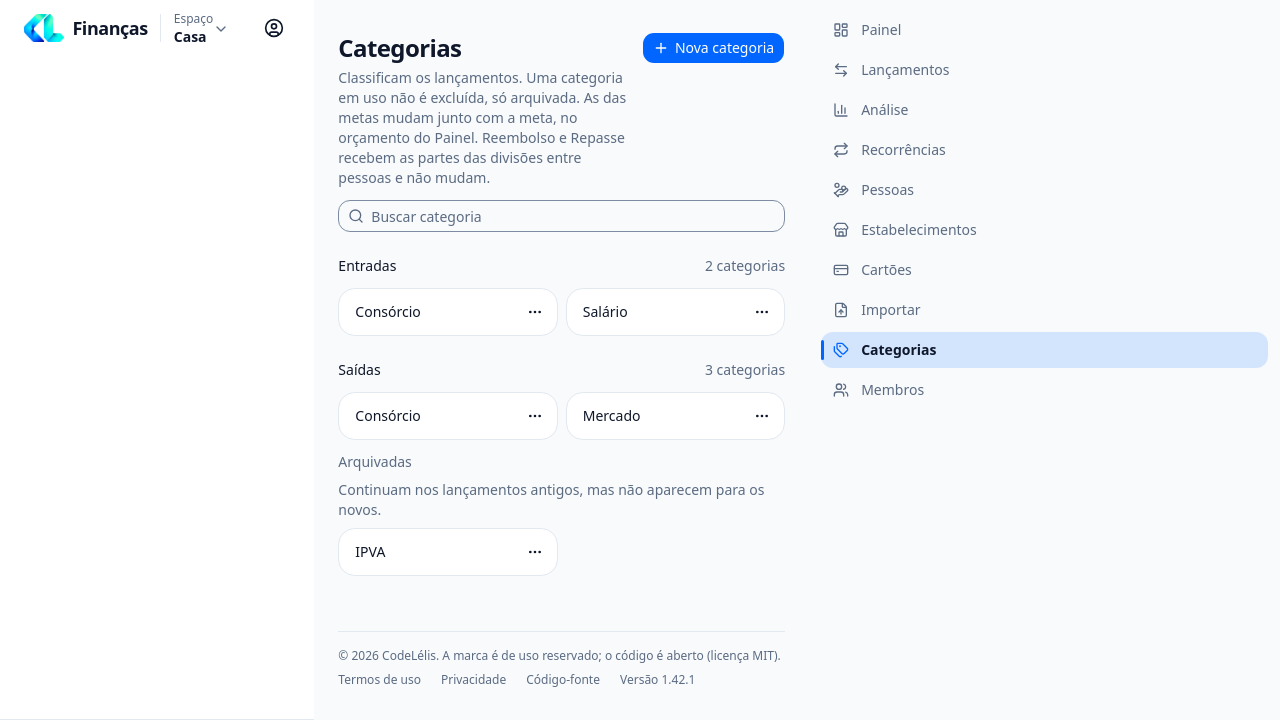
CategoriesPage › archives an active category and reactivates an archived one
Click the button named "Ações de Mercado".
click(762, 416)  # box [748, 402, 776, 430]
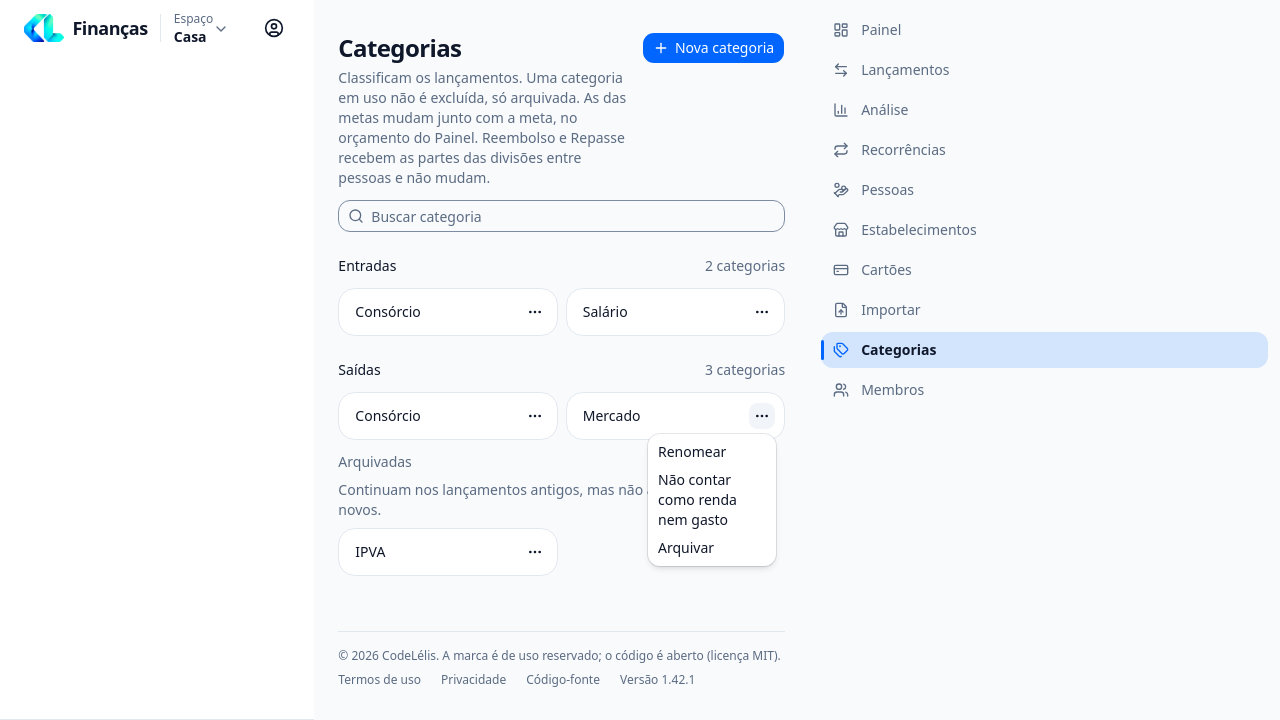
Click the menu item "Arquivar".
click(686, 548)  # box [658, 538, 714, 557]
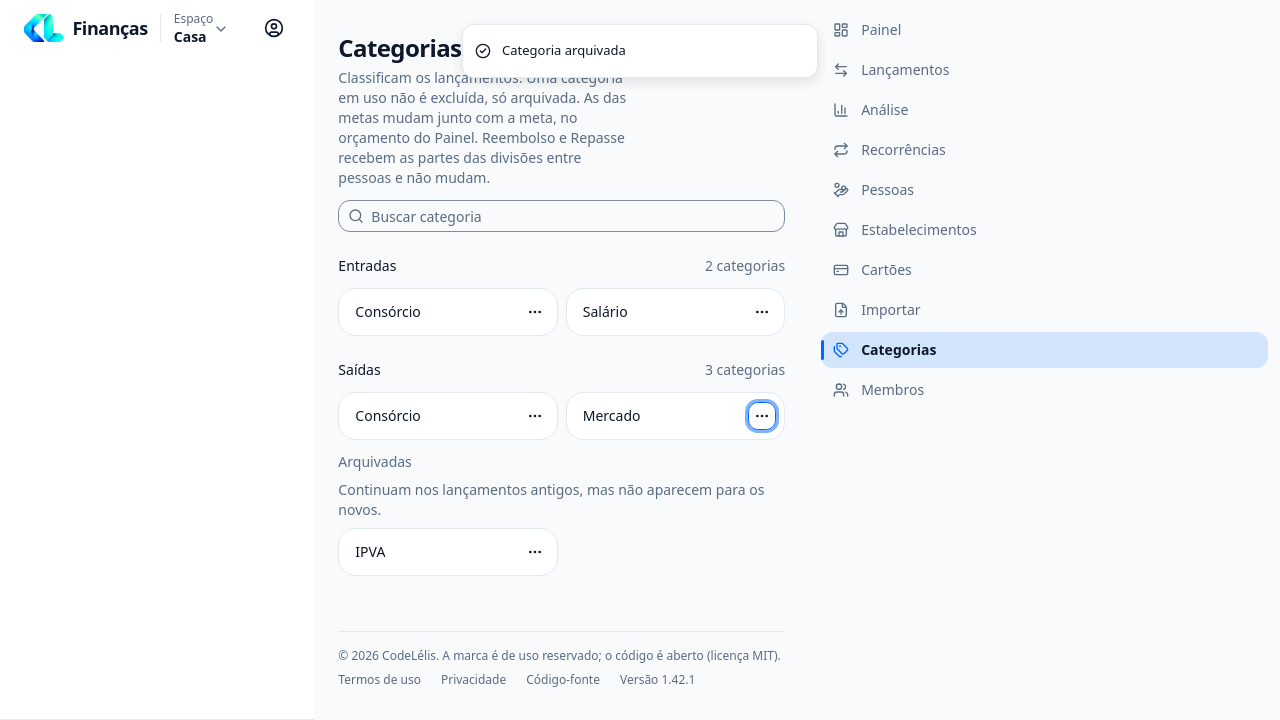
Expected: the text "Categoria arquivada" is shown, [502, 41, 626, 60]
Click the button named "Ações de IPVA".
click(535, 552)  # box [521, 538, 549, 566]
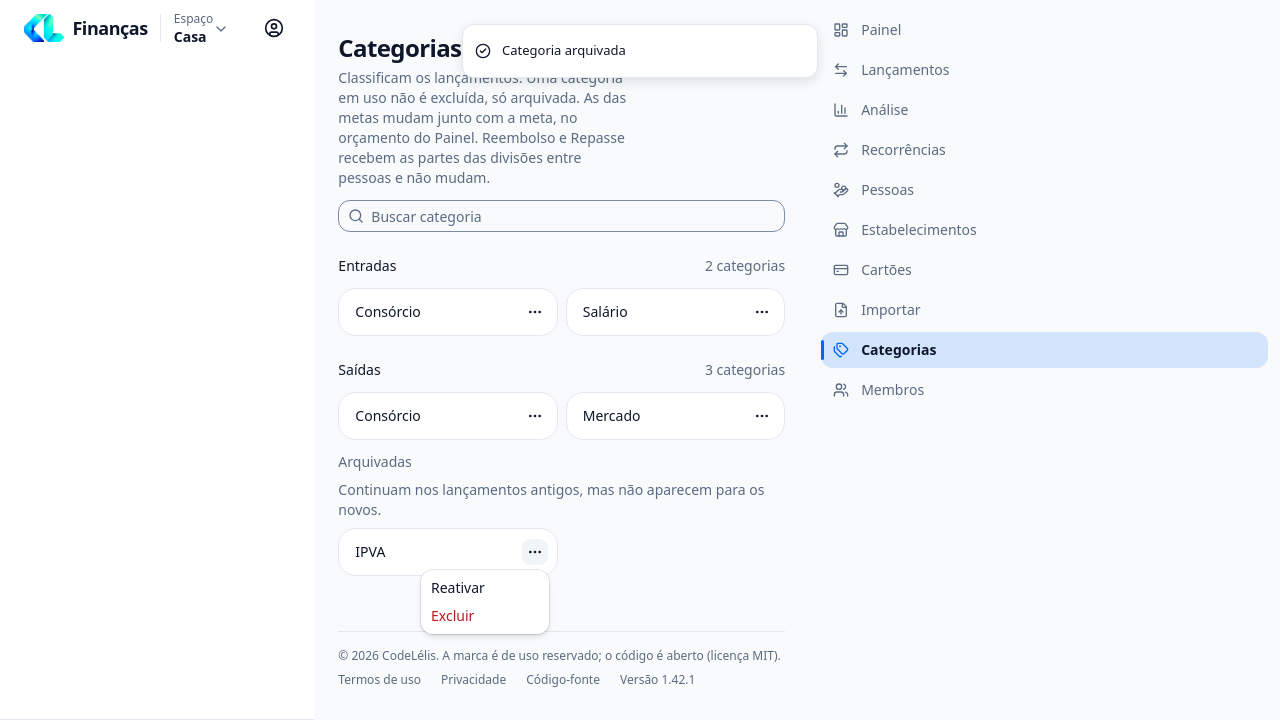
Click the menu item "Reativar".
click(458, 588)  # box [431, 578, 485, 597]
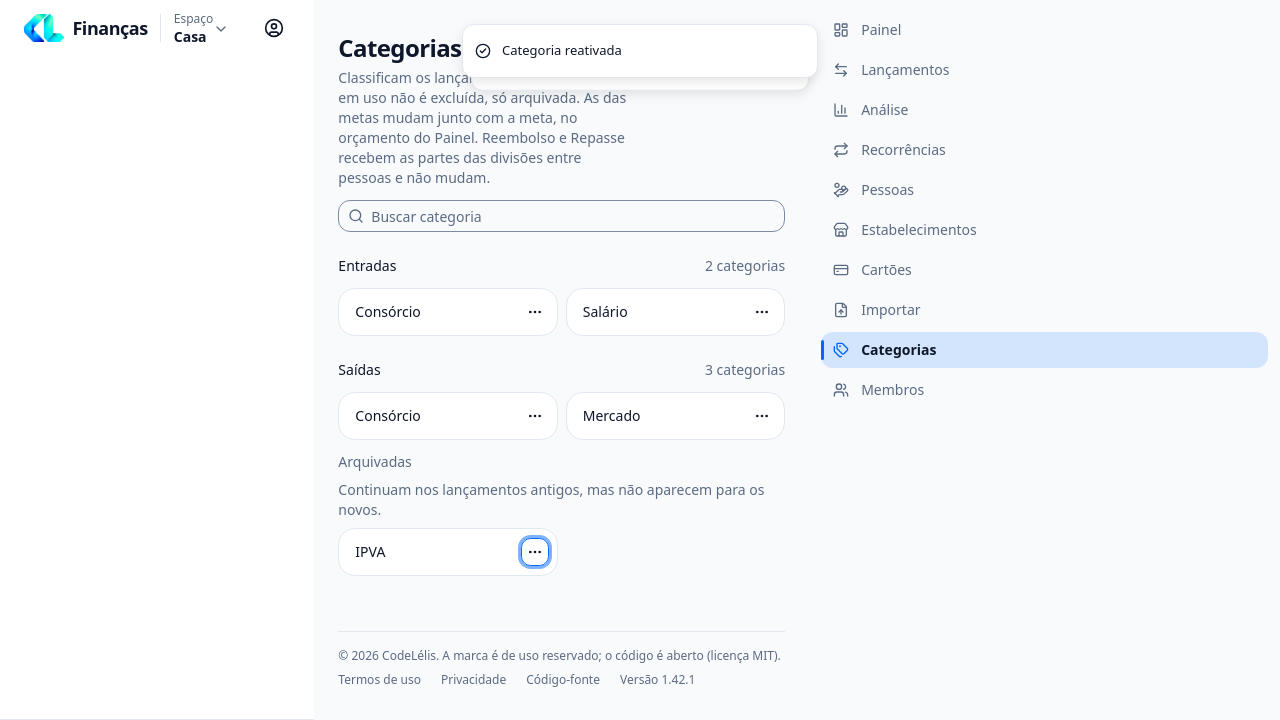
Expected: the text "Categoria reativada" is shown, [502, 41, 622, 60]
